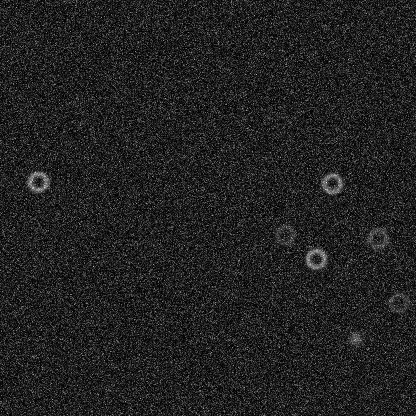Ring: (272, 222, 296, 246), (320, 171, 344, 195), (25, 169, 49, 193), (386, 290, 410, 314), (303, 246, 327, 270), (365, 226, 389, 250)
Spot: (347, 330, 363, 346)
